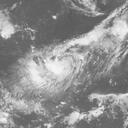cyclone: (17, 44, 80, 95)
